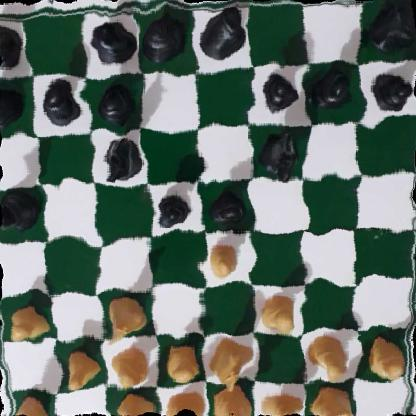black-bishop: (89, 13, 137, 65), (0, 189, 44, 235)
black-king: (197, 0, 250, 64)
black-knight: (256, 127, 299, 179), (101, 129, 143, 177)
black-pawn: (365, 67, 416, 112), (38, 77, 83, 123), (260, 65, 296, 114), (315, 65, 352, 112), (204, 186, 245, 224), (97, 81, 135, 122), (155, 188, 190, 231), (0, 83, 26, 124)
black-queen: (141, 13, 193, 65)
black-rook: (368, 0, 416, 51), (0, 16, 27, 70)
white-bishop: (261, 388, 302, 416), (111, 392, 156, 416)
white-king: (210, 385, 253, 416)
white-knight: (208, 336, 251, 396), (99, 294, 146, 341)
white-pawn: (163, 340, 201, 385), (110, 349, 153, 387), (364, 337, 405, 376), (2, 306, 49, 339), (260, 292, 296, 335), (59, 349, 95, 391), (207, 235, 240, 280)
white-queen: (161, 386, 204, 416)
white-rook: (314, 380, 355, 416), (9, 397, 54, 416)
